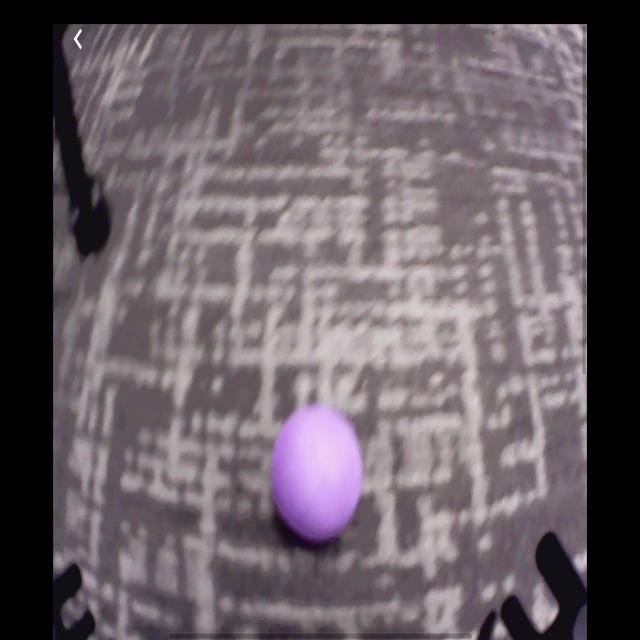ball: (272, 407, 366, 547)
